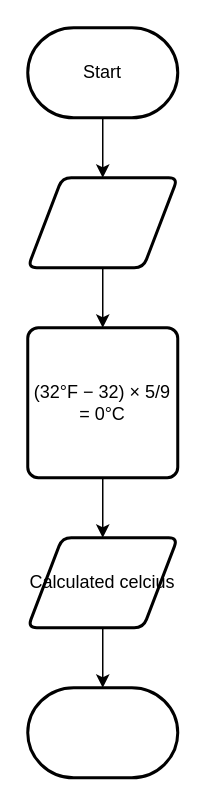
Some shapes in this 204 by 804 pixel diagram are drawn without their labels. Here are the shapes that lost their labels. From the top down, the centre of each, then its label:
[102,222]: Enter fahrenheit
[102,732]: Stop
